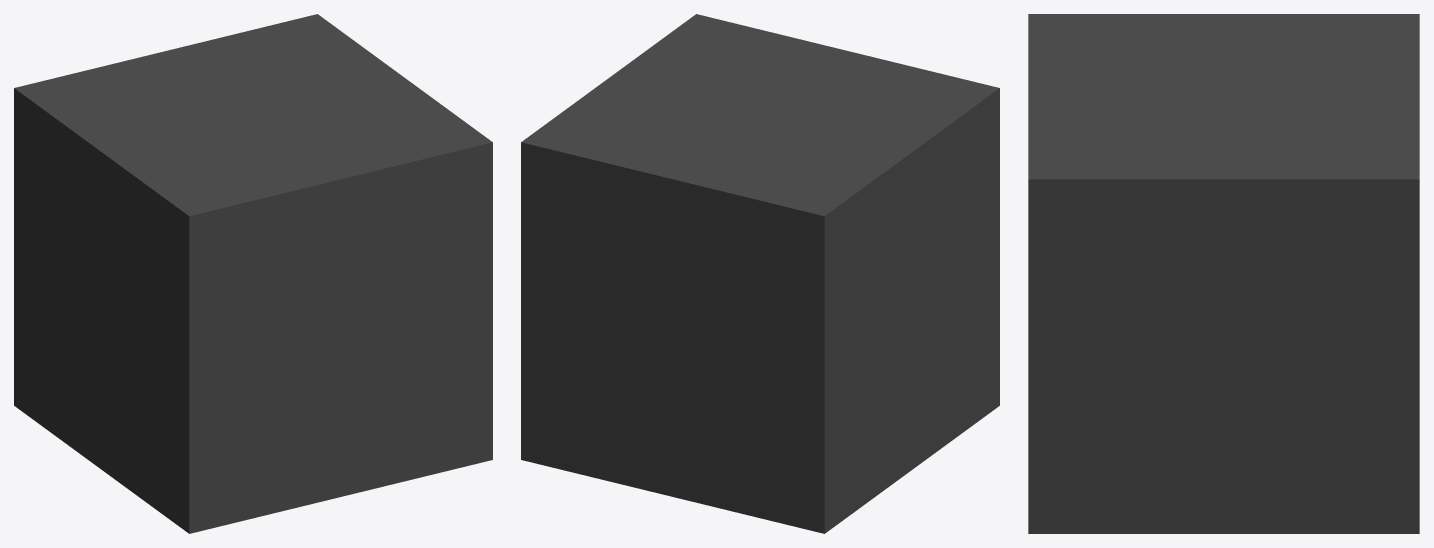
Rendered from stone.obj.
3 renders of one model, left to right at view 1: azimuth 30°, elevation 25°; view 2: azimuth 150°, elevation 25°; view 3: azimuth 270°, elevation 25°, orthographic. The views are drawn at different scales.
Bounding box in the file's own units: 3.2 × 3.2 × 3.2.
